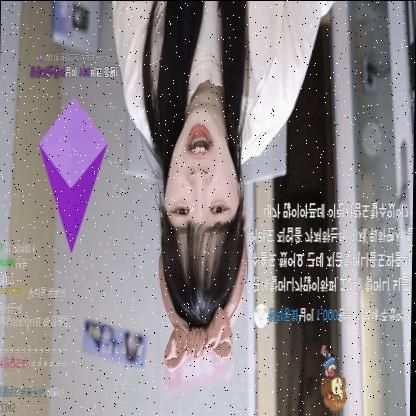donation: (245, 200, 414, 416), (26, 49, 120, 254)
streamer: (105, 0, 335, 369)
